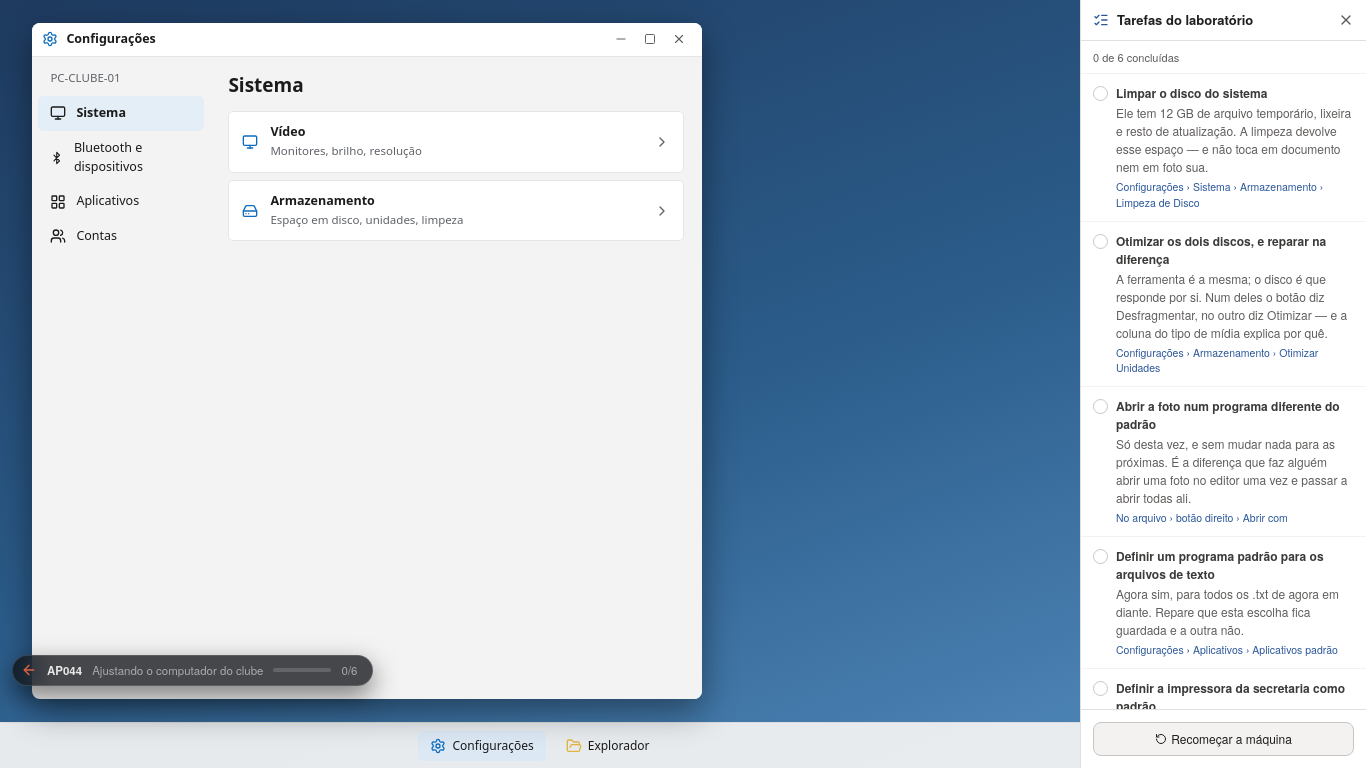
o computador do clube se ajusta clicando › abrir no próprio programa padrão explica e não fecha a tarefa
Click the button "Explorador" at (608, 746), box [554,730,662,760]
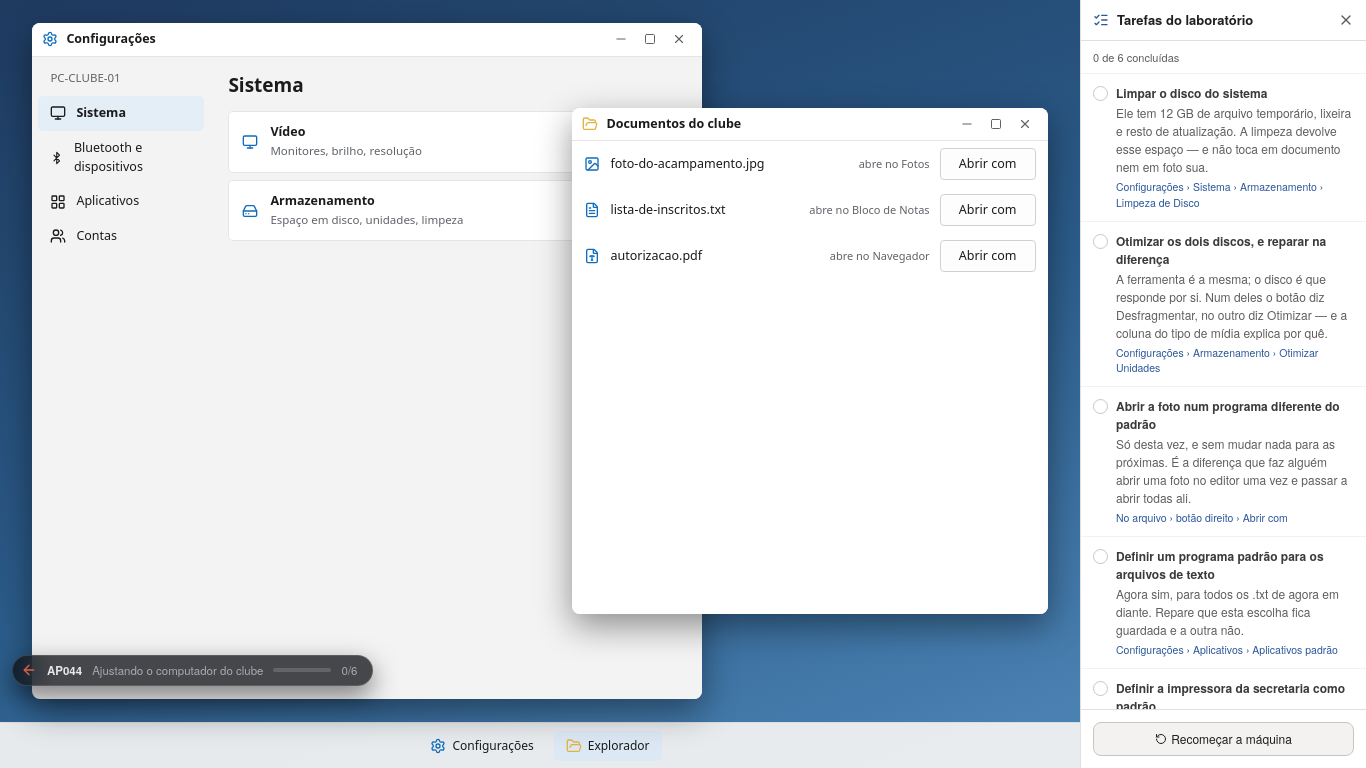
Click the button "Abrir com" next to "Fotos" at (988, 164), box [940,148,1036,180]
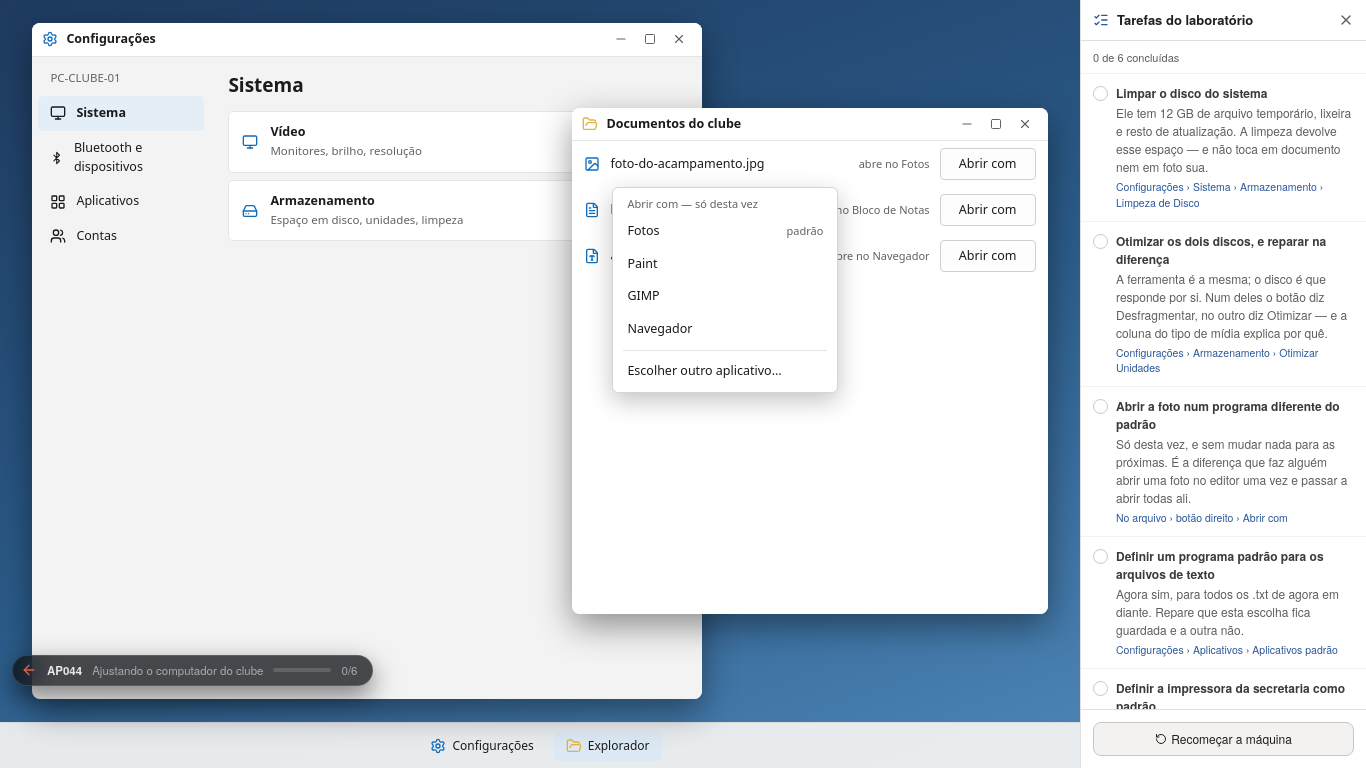
Click the button "Fotos padrão" at (725, 231), box [617,215,833,248]
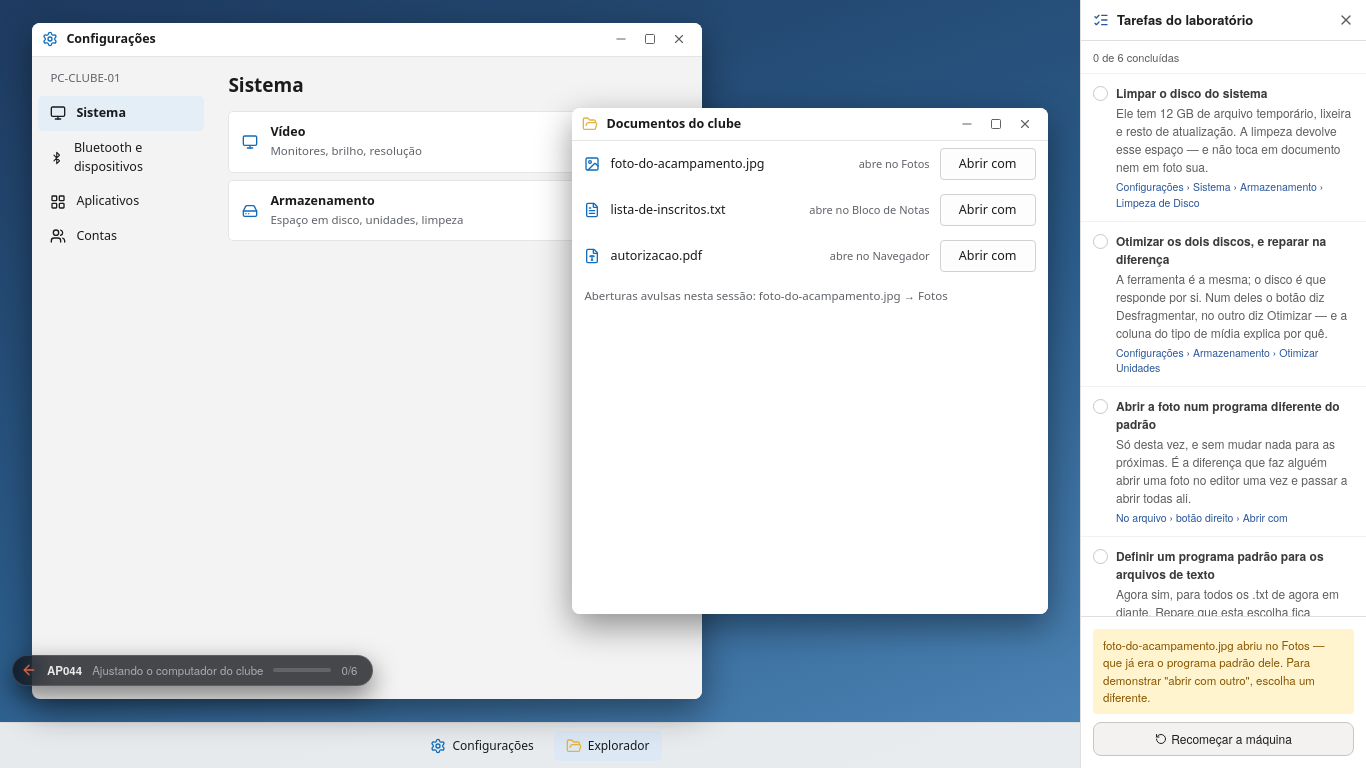
Check: the text "já era o programa padrão" is shown, box [1103,637,1325,705]
